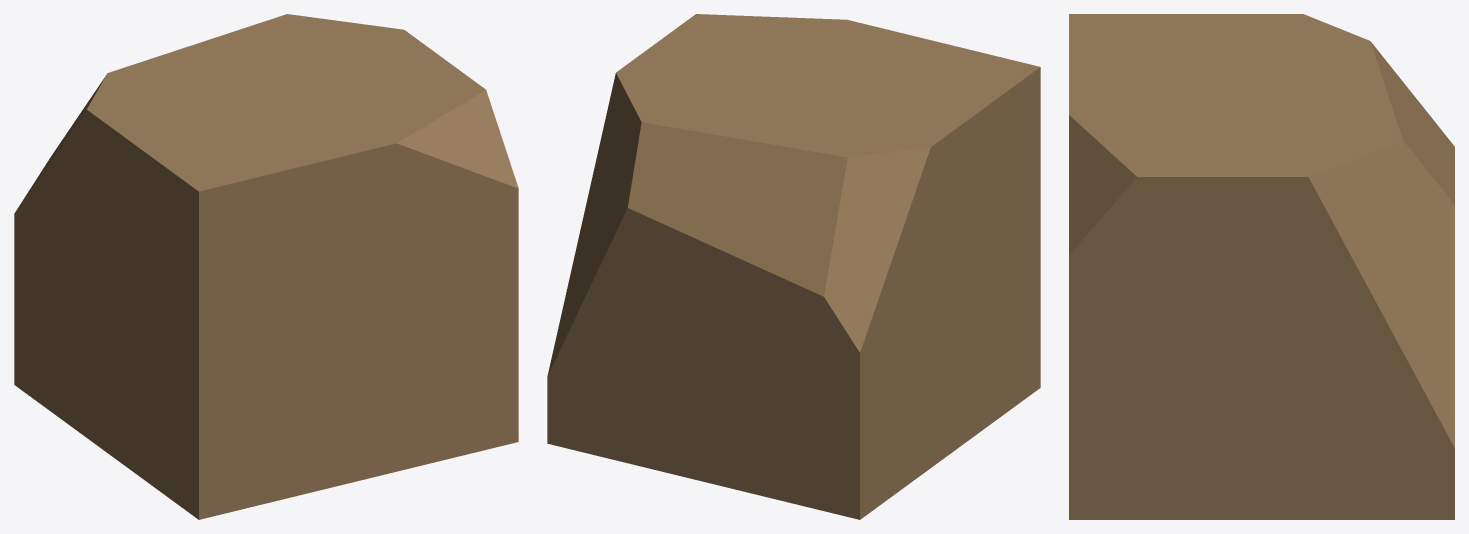
Rendered from SM_Env_Pebble_07.gltf.
3 renders of one model, left to right at view 1: azimuth 30°, elevation 25°; view 2: azimuth 150°, elevation 25°; view 3: azimuth 270°, elevation 25°, orthographic. The views are drawn at different scales.
Parts seen in each view (by area): view 1: SM_Env_Pebble_07; view 2: SM_Env_Pebble_07; view 3: SM_Env_Pebble_07.
Part boxes in pixels (x1,y1,x2,y2): SM_Env_Pebble_07: [14, 14, 518, 519]; SM_Env_Pebble_07: [547, 14, 1040, 519]; SM_Env_Pebble_07: [1069, 14, 1454, 519].
Size of the model in its own units: 0.1072 by 0.1051 by 0.1072.
1 material, 1 textured.
